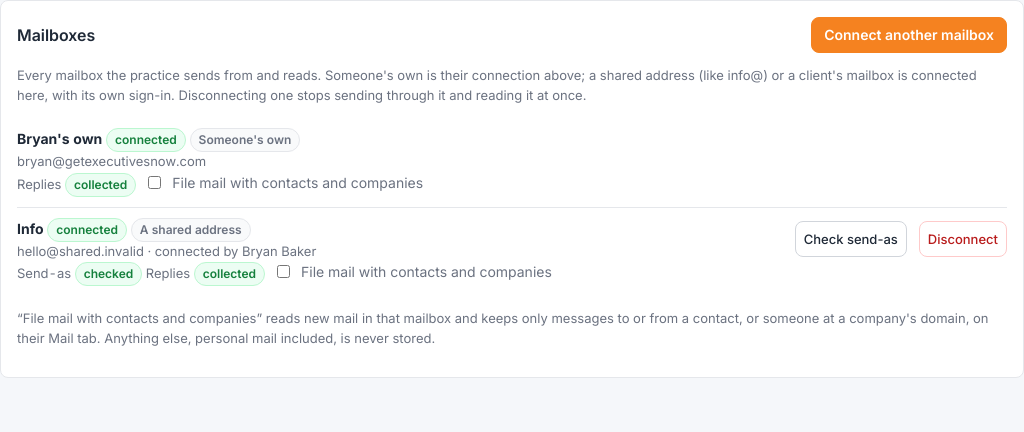
Test: mailboxes (2026-10-28) › lists every mailbox and disconnects a shared one
The width and height of the screenshot is (1024, 432).
Expected: the text "Info" is shown, top-left (17, 220), bottom-right (44, 236)
Expected: the text "Bryan's own" is shown, top-left (17, 130), bottom-right (102, 147)
Click the button with aria-label "Disconnect hello@shared.invalid".
click(963, 239)  # box top-left (919, 221), bottom-right (1007, 257)
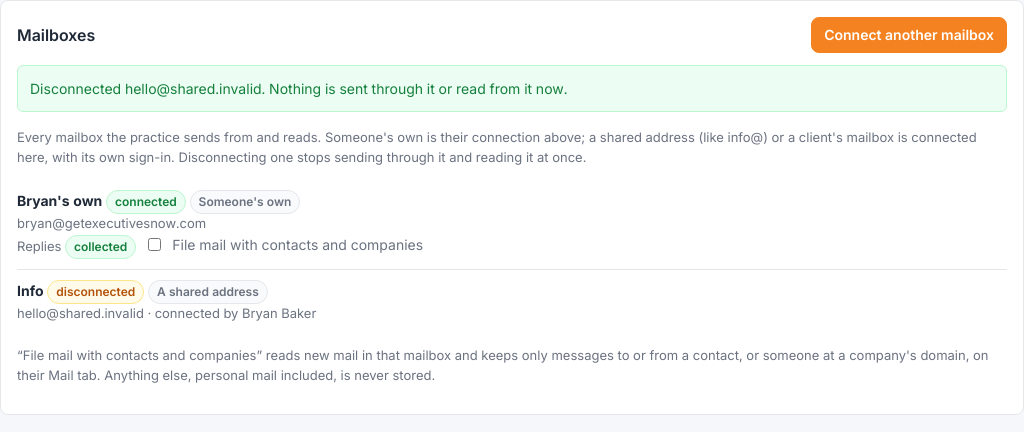
Now the text "Nothing is sent through it or read from it now" is shown, box top-left (30, 80), bottom-right (568, 97)
Now the text "disconnected" is shown, box top-left (47, 280), bottom-right (144, 304)
